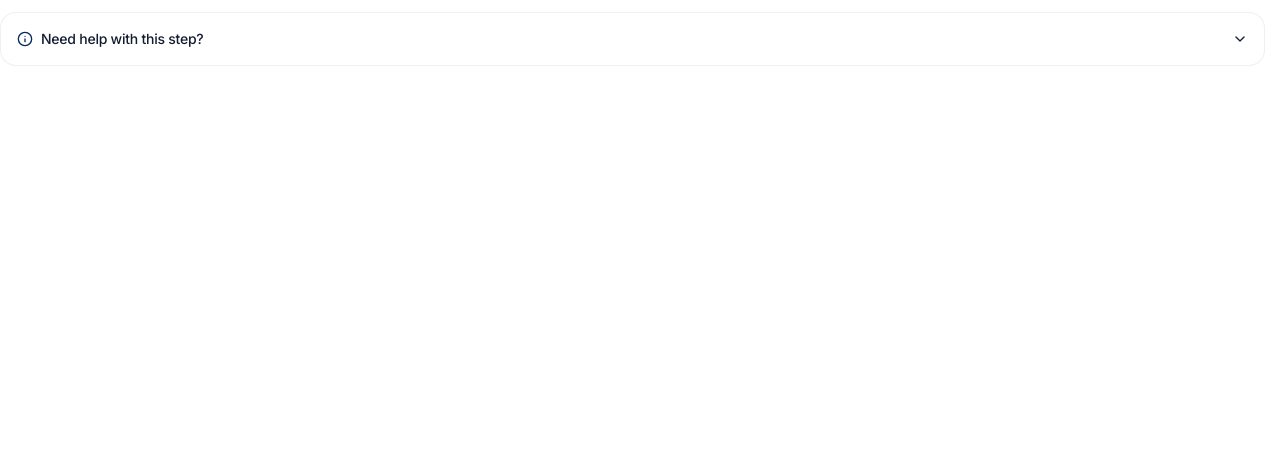
it: OnboardingGuidePanel › mobile accordion is collapsed by default and remembers its state per step
The width and height of the screenshot is (1280, 457).
Later steps or results of the test are not shown.
What coordinates should you click on to do the following:
click the button "Need help with this step?"
I would click on:
 (122, 38)
Its box is [17,13,1248,65].
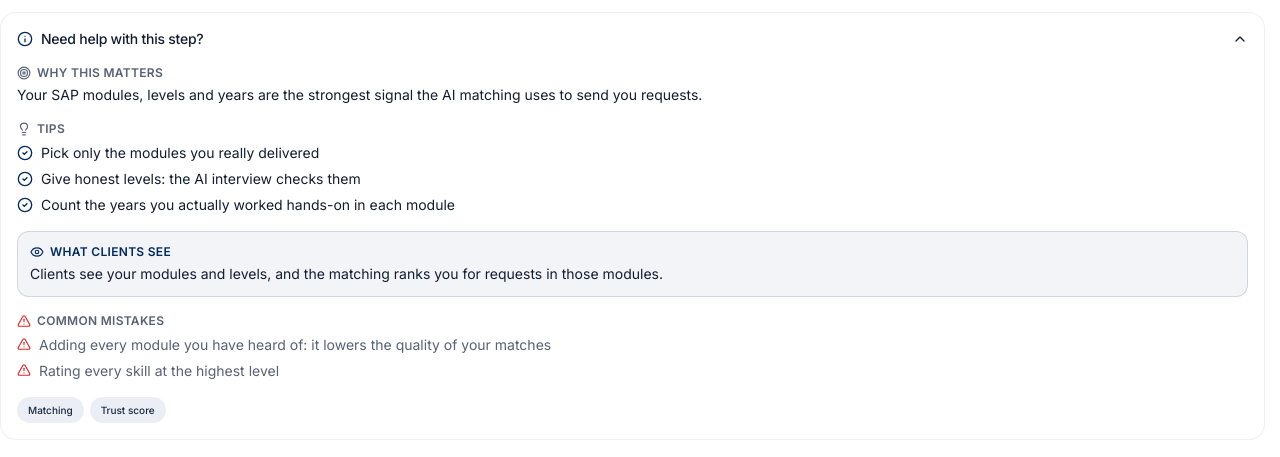
Result: the button "Need help with this step?" is expanded at [17,13,1248,65]
